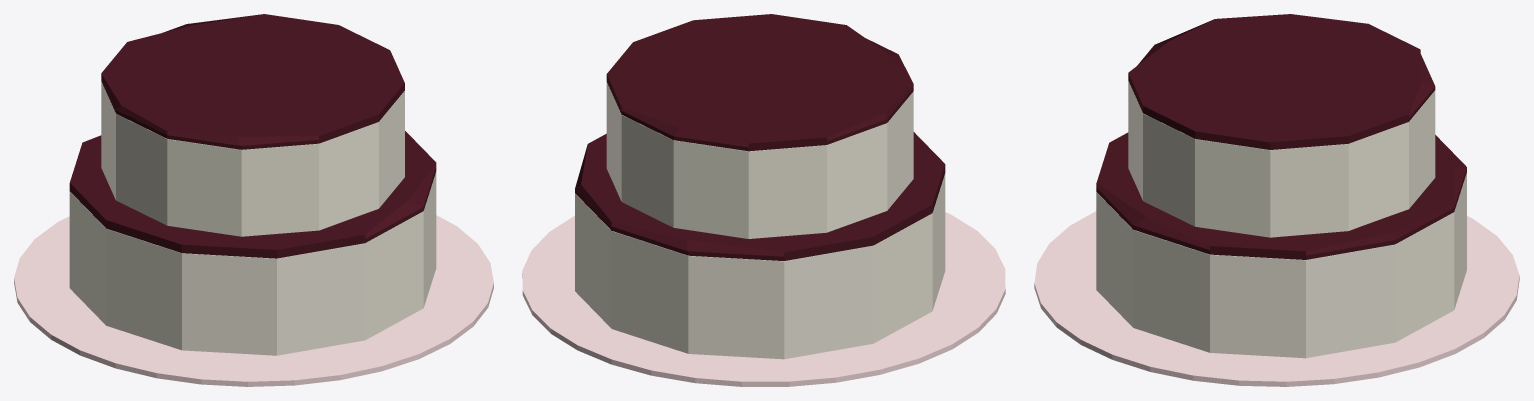
File: doublelayer.glb
The picture shows the model from 3 angles, left to right: view 1: azimuth 30°, elevation 25°; view 2: azimuth 150°, elevation 25°; view 3: azimuth 270°, elevation 25°; orthographic projection.
Parts seen in each view (by area): view 1: layer 3 lowest, layer 2 mid, layer 2 lowest, plate 2, layer 3 mid, layer 3 highest, layer 2 highest; view 2: layer 3 lowest, layer 2 mid, layer 2 lowest, plate 2, layer 3 mid, layer 3 highest, layer 2 highest; view 3: layer 3 lowest, layer 2 mid, layer 2 lowest, plate 2, layer 3 mid, layer 3 highest, layer 2 highest.
Boxes of the visible parts, x1,y1,x2,y2 form: layer 3 lowest: (69,172,436,355); layer 2 mid: (101,14,404,145); layer 2 lowest: (101,81,404,236); plate 2: (14,215,493,386); layer 3 mid: (69,131,436,254); layer 3 highest: (69,167,436,258); layer 2 highest: (101,23,404,149); layer 3 lowest: (575,173,945,359); layer 2 mid: (606,14,913,147); layer 2 lowest: (606,82,913,238); plate 2: (522,212,1005,386); layer 3 mid: (575,132,945,256); layer 3 highest: (575,169,945,260); layer 2 highest: (606,38,913,151); layer 3 lowest: (1096,172,1466,358); layer 2 mid: (1128,14,1434,146); layer 2 lowest: (1128,81,1435,237); plate 2: (1034,211,1519,386); layer 3 mid: (1096,132,1466,255); layer 3 highest: (1096,135,1466,259); layer 2 highest: (1128,44,1435,149).
Size of the model in its own units: 1.97 by 0.9346 by 1.97.
